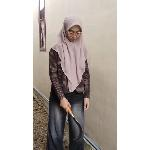Celurit: (51, 96, 87, 144)
